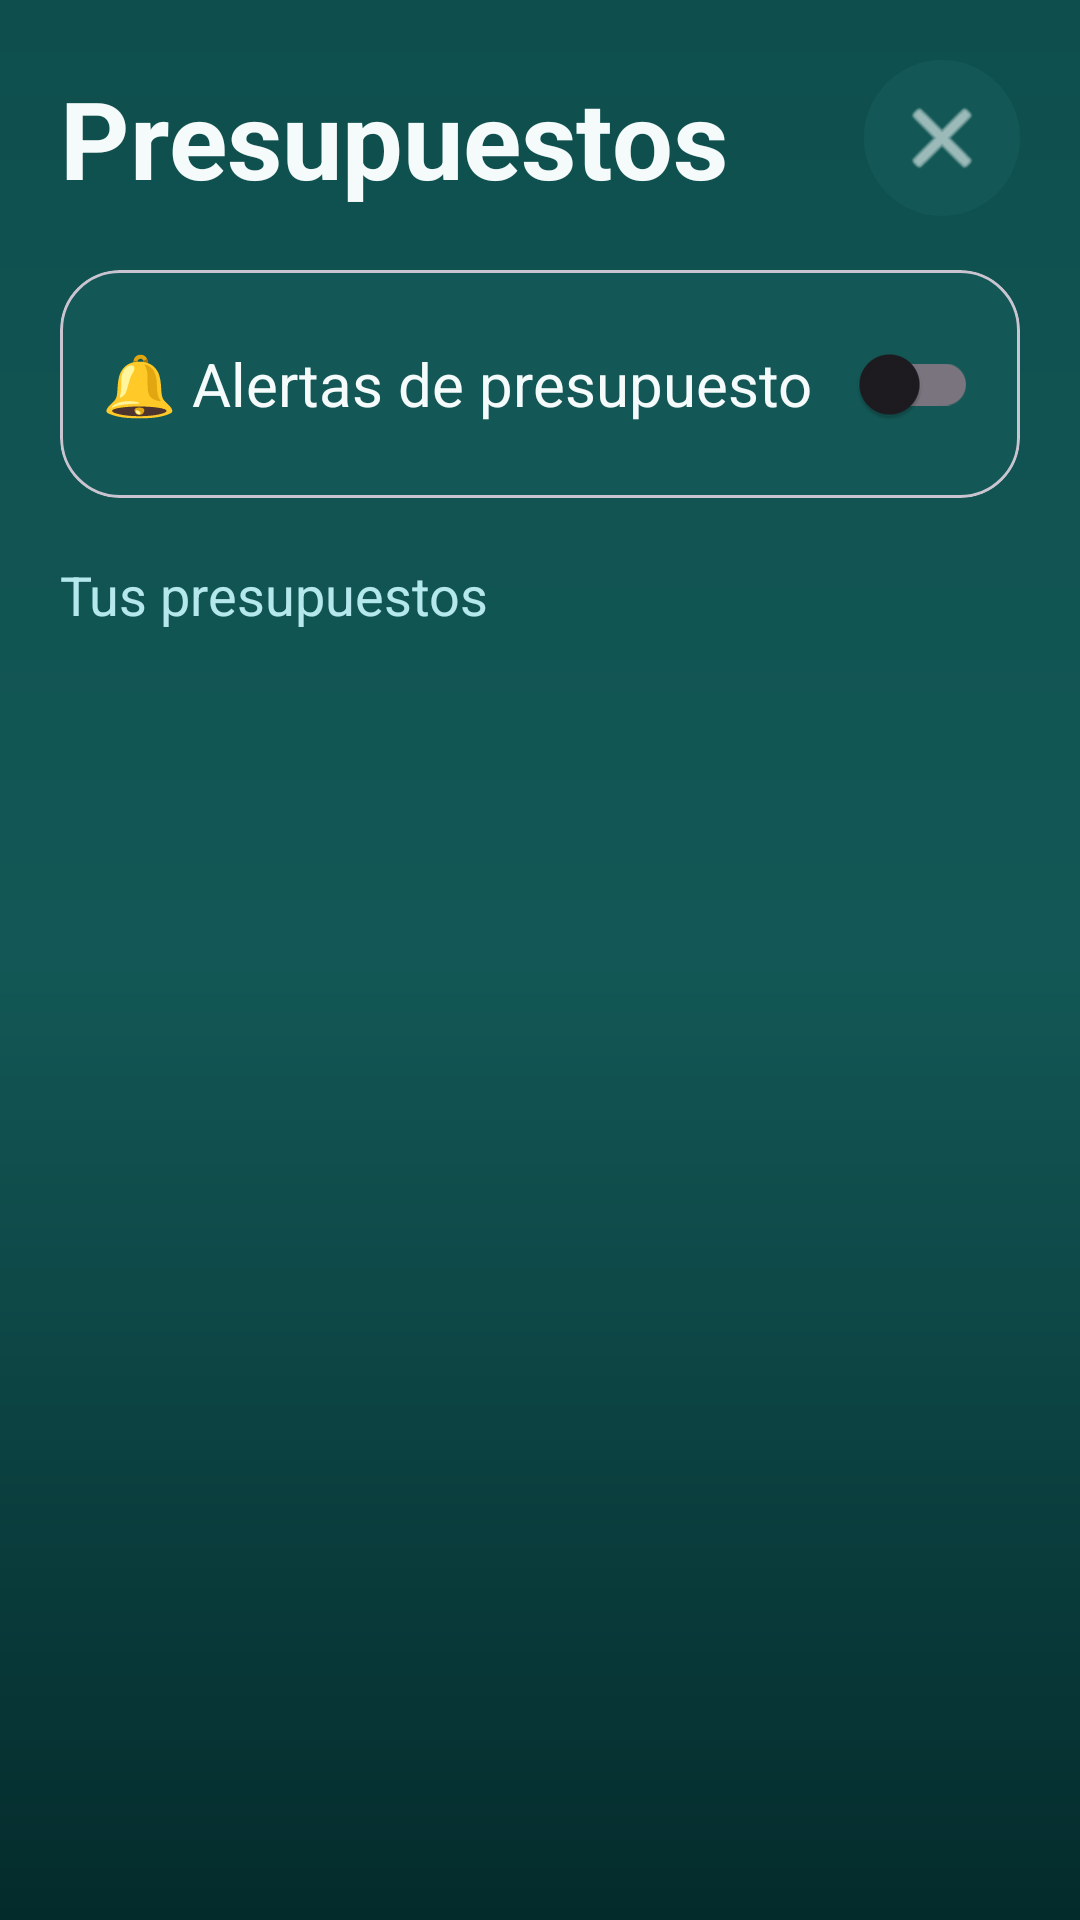

Where icons sit on this 1080px×1920px app screen, as (x1, y1, x2, y2):
close clear cancel: (912, 108, 972, 168)
